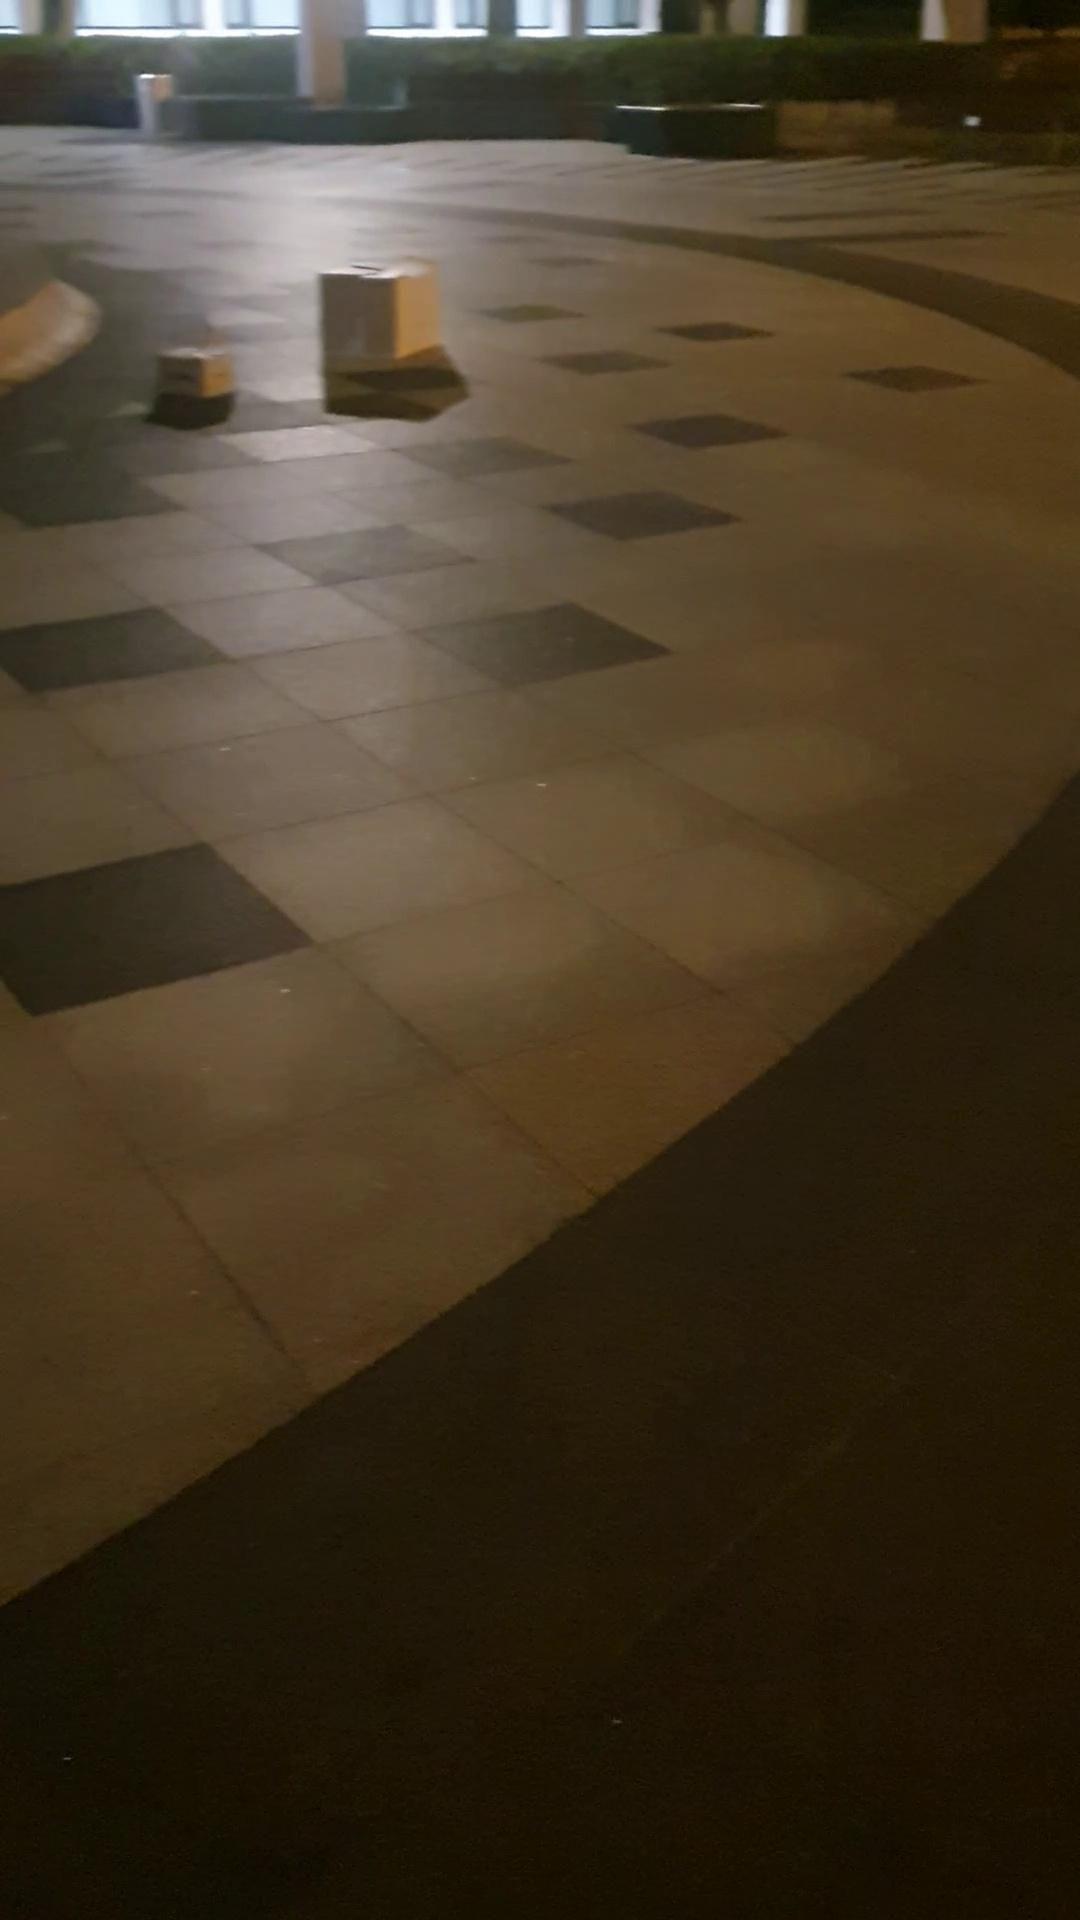Box: (313, 248, 452, 397), (138, 338, 243, 418)
